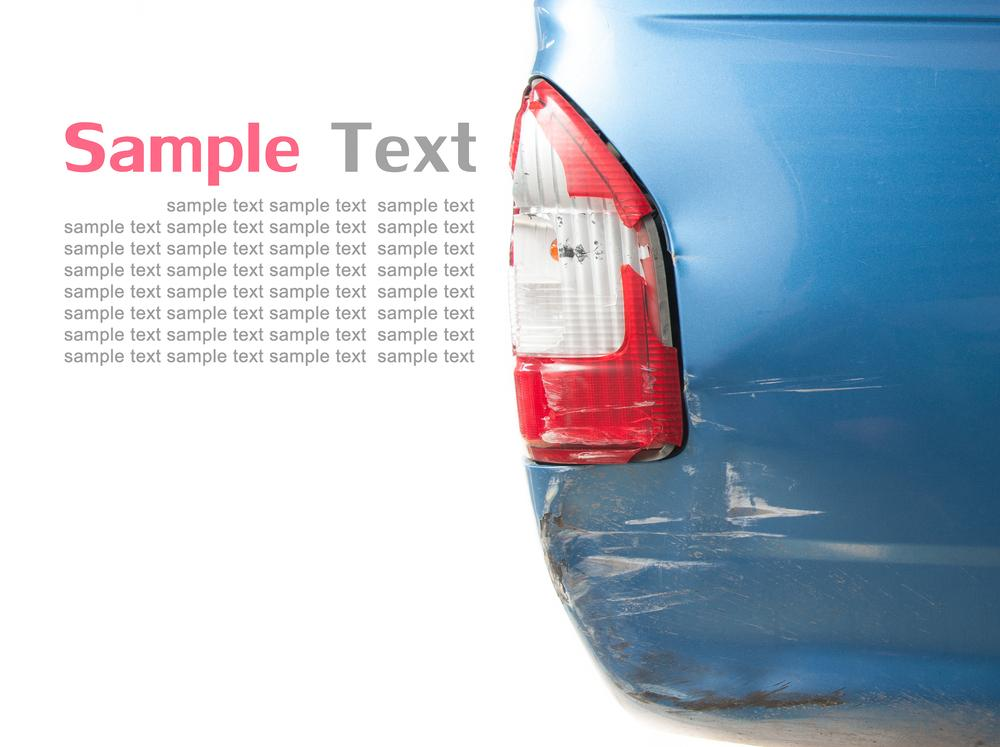dent: (545, 418, 949, 708), (627, 148, 779, 353)
lamp broken: (507, 79, 695, 470)
scratch: (685, 370, 902, 413)
